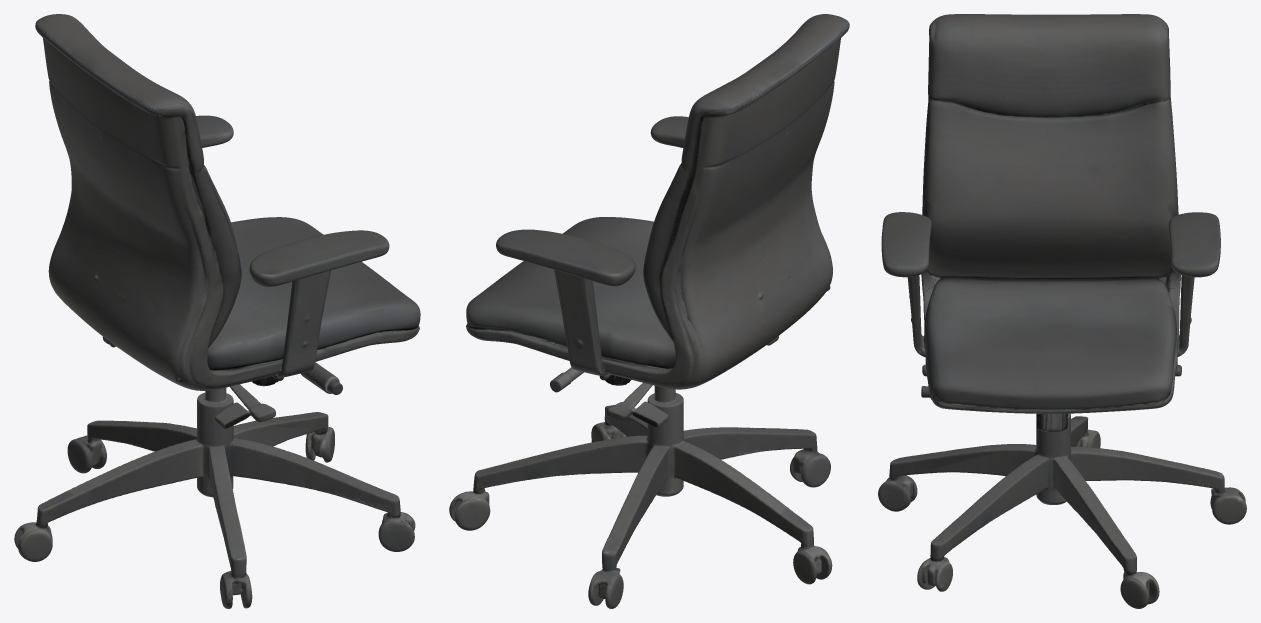
File: modern_office_chair_padded_29.glb
3 renders of one model, left to right at view 1: azimuth 30°, elevation 25°; view 2: azimuth 150°, elevation 25°; view 3: azimuth 270°, elevation 25°, orthographic. The views are drawn at different scales.
Visible parts, largest first — view 1: tripo_node_b03b75c1-8bee-40a6-a622-ab9d3543a64c; view 2: tripo_node_b03b75c1-8bee-40a6-a622-ab9d3543a64c; view 3: tripo_node_b03b75c1-8bee-40a6-a622-ab9d3543a64c.
Part boxes in pixels (box(x1,y1,x2,y2)): tripo_node_b03b75c1-8bee-40a6-a622-ab9d3543a64c: box(14, 14, 420, 608); tripo_node_b03b75c1-8bee-40a6-a622-ab9d3543a64c: box(449, 14, 849, 608); tripo_node_b03b75c1-8bee-40a6-a622-ab9d3543a64c: box(878, 14, 1246, 608).
Size of the model in its own units: 0.7283 by 1 by 0.7131.
1 material, 1 textured.
